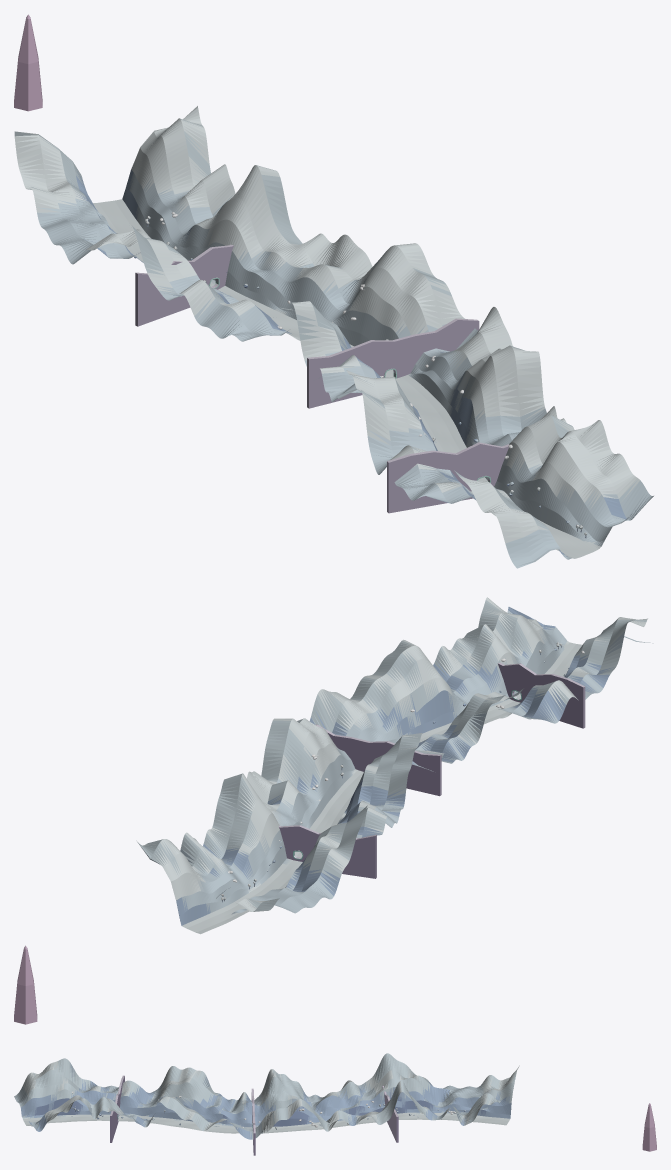
File: level_3.glb
The picture shows the model from 3 angles, top to bottom: view 1: azimuth 30°, elevation 25°; view 2: azimuth 150°, elevation 25°; view 3: azimuth 270°, elevation 25°; orthographic projection. The views are drawn at different scales.
Visible parts, largest first — view 1: terrain_0, terrain_9, terrain_6, terrain_7, terrain_2, terrain_4, terrain_5, terrain_8, terrain_1, terrain_3, wall_1, wall_0 (+2 smaller); view 2: terrain_5, terrain_3, terrain_8, terrain_1, terrain_7, terrain_2, terrain_9, terrain_6, terrain_4, terrain_0, wall_1, wall_0 (+2 smaller); view 3: terrain_0, terrain_7, terrain_3, terrain_5, terrain_2, terrain_9, terrain_1, terrain_6, terrain_8, terrain_4, landmark, wall_0 (+2 smaller).
Part boxes in pixels (bbox=[...]): terrain_0: bbox=[454, 420, 653, 568]; terrain_9: bbox=[14, 106, 210, 233]; terrain_6: bbox=[179, 233, 372, 341]; terrain_7: bbox=[100, 165, 302, 301]; terrain_2: bbox=[354, 354, 557, 481]; terrain_4: bbox=[299, 284, 511, 404]; terrain_5: bbox=[248, 243, 449, 348]; terrain_8: bbox=[42, 164, 235, 264]; terrain_1: bbox=[394, 414, 595, 516]; terrain_3: bbox=[331, 344, 539, 442]; wall_1: bbox=[307, 318, 479, 408]; wall_0: bbox=[387, 442, 509, 513]; terrain_5: bbox=[261, 718, 422, 816]; terrain_3: bbox=[349, 639, 505, 760]; terrain_8: bbox=[180, 827, 351, 912]; terrain_1: bbox=[455, 600, 625, 705]; terrain_7: bbox=[212, 773, 383, 880]; terrain_2: bbox=[419, 643, 571, 724]; terrain_9: bbox=[137, 839, 296, 934]; terrain_6: bbox=[247, 771, 403, 832]; terrain_4: bbox=[309, 689, 459, 783]; terrain_0: bbox=[486, 597, 653, 677]; wall_1: bbox=[315, 724, 441, 796]; wall_0: bbox=[498, 662, 585, 728]; terrain_0: bbox=[14, 1058, 77, 1131]; terrain_7: bbox=[357, 1053, 420, 1124]; terrain_3: bbox=[159, 1067, 228, 1132]; terrain_5: bbox=[265, 1069, 330, 1132]; terrain_2: bbox=[116, 1066, 185, 1127]; terrain_9: bbox=[458, 1065, 519, 1125]; terrain_1: bbox=[68, 1061, 128, 1121]; terrain_6: bbox=[308, 1080, 378, 1129]; terrain_8: bbox=[413, 1073, 474, 1120]; terrain_4: bbox=[212, 1083, 274, 1139]; landmark: bbox=[642, 1103, 656, 1151]; wall_0: bbox=[110, 1075, 124, 1142].
Bounding box in the file's own units: 624 × 332 × 3084.
